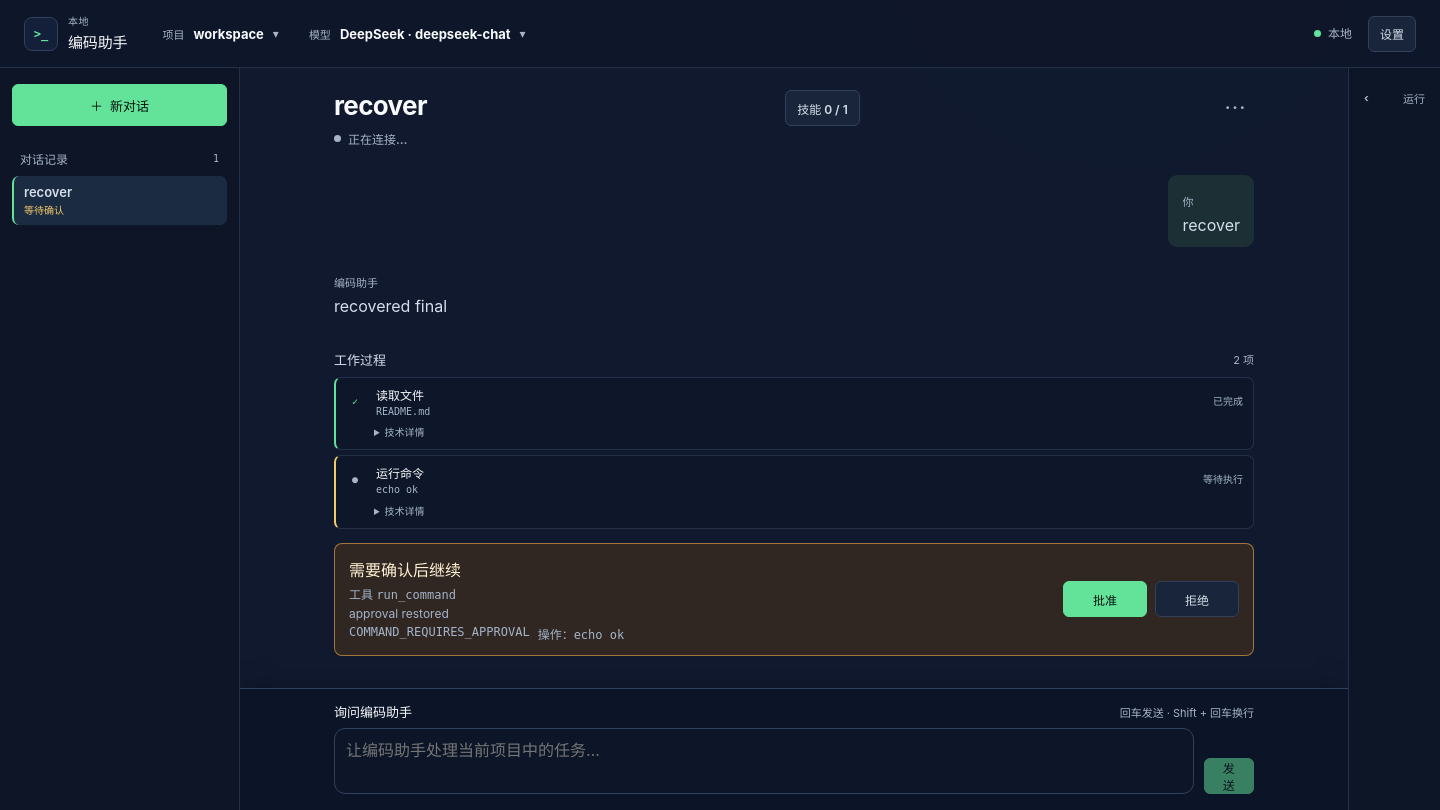
F: full snapshot hydration recovers final messages, approval, terminal, and skills
Check: the button "技能 0 / 1" is shown, box left=785, top=90, right=860, bottom=126
Check: the text "recovered final" is shown, box left=334, top=296, right=447, bottom=316
Click the button with aria-label "展开运行详情与修改" at point(1394, 98), box left=1354, top=76, right=1435, bottom=120
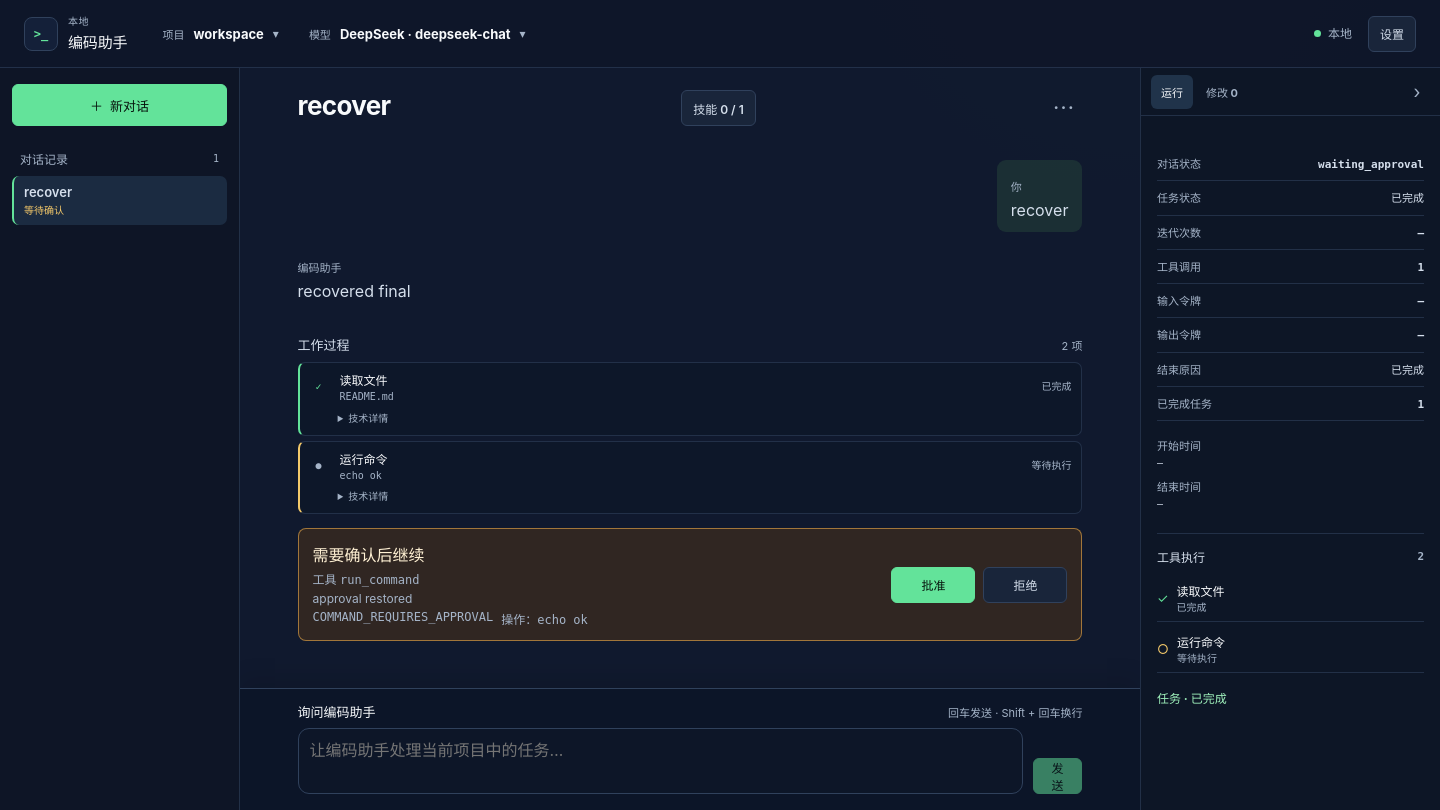
Check: the element named "运行详情与修改" shows "任务 · 已完成", box left=1140, top=68, right=1439, bottom=809
